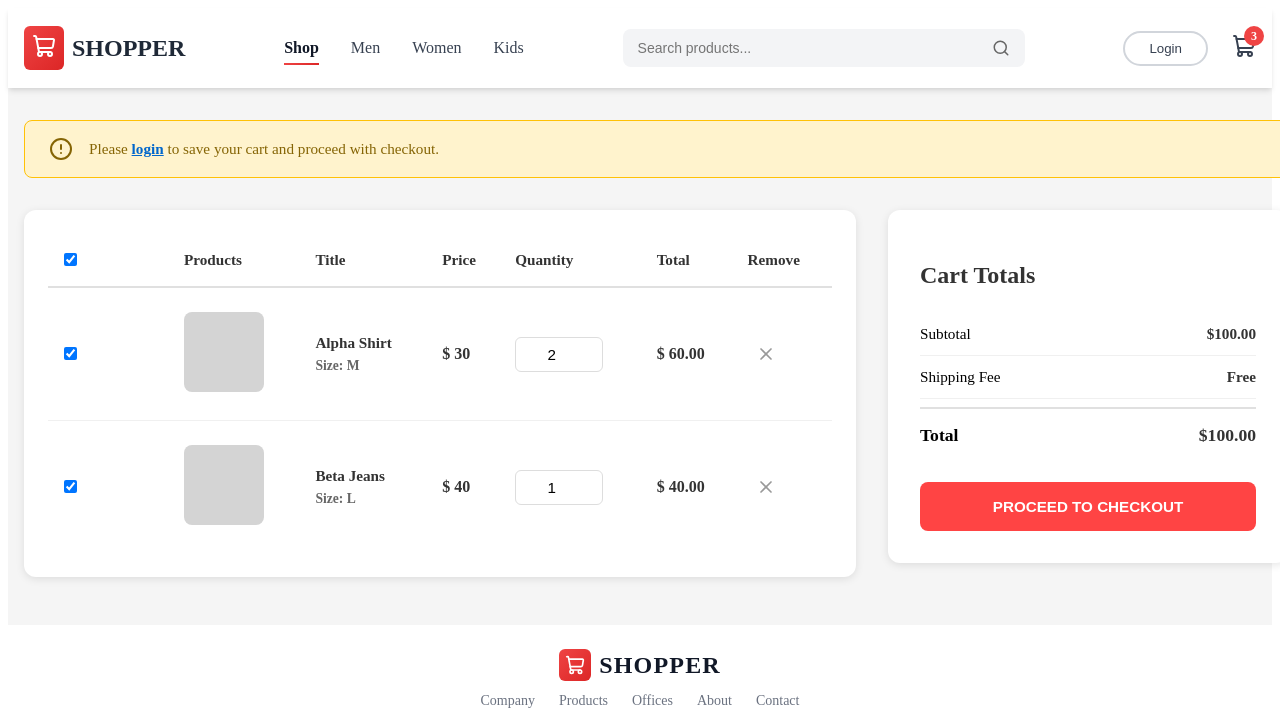
Test case: Cart checkbox selection for checkout › provides a Select All control that toggles every item selection
Click the checkbox named "select all" at (70, 260), box x1=64 y1=253 x2=77 y2=266
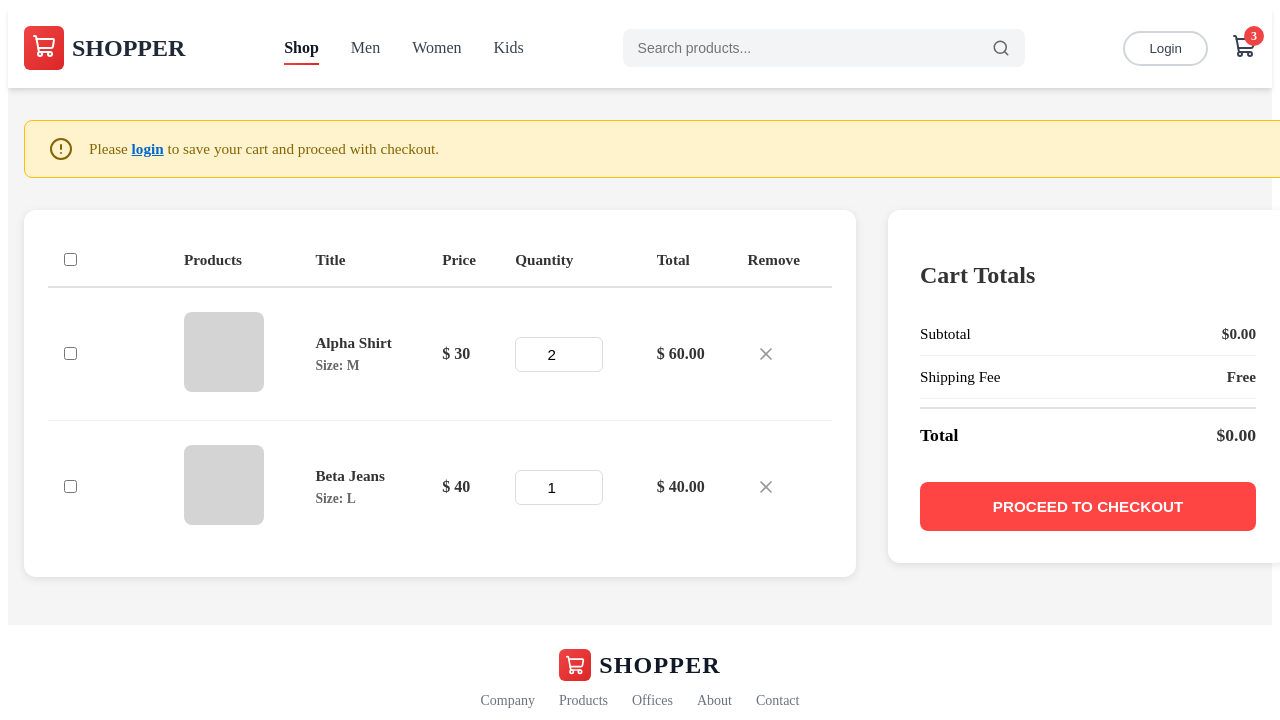
Now the checkbox named "Select Alpha Shirt" is not checked, box x1=64 y1=347 x2=77 y2=360
Now the checkbox named "Select Beta Jeans" is not checked, box x1=64 y1=480 x2=77 y2=493
Click the checkbox named "select all" at (70, 260), box x1=64 y1=253 x2=77 y2=266
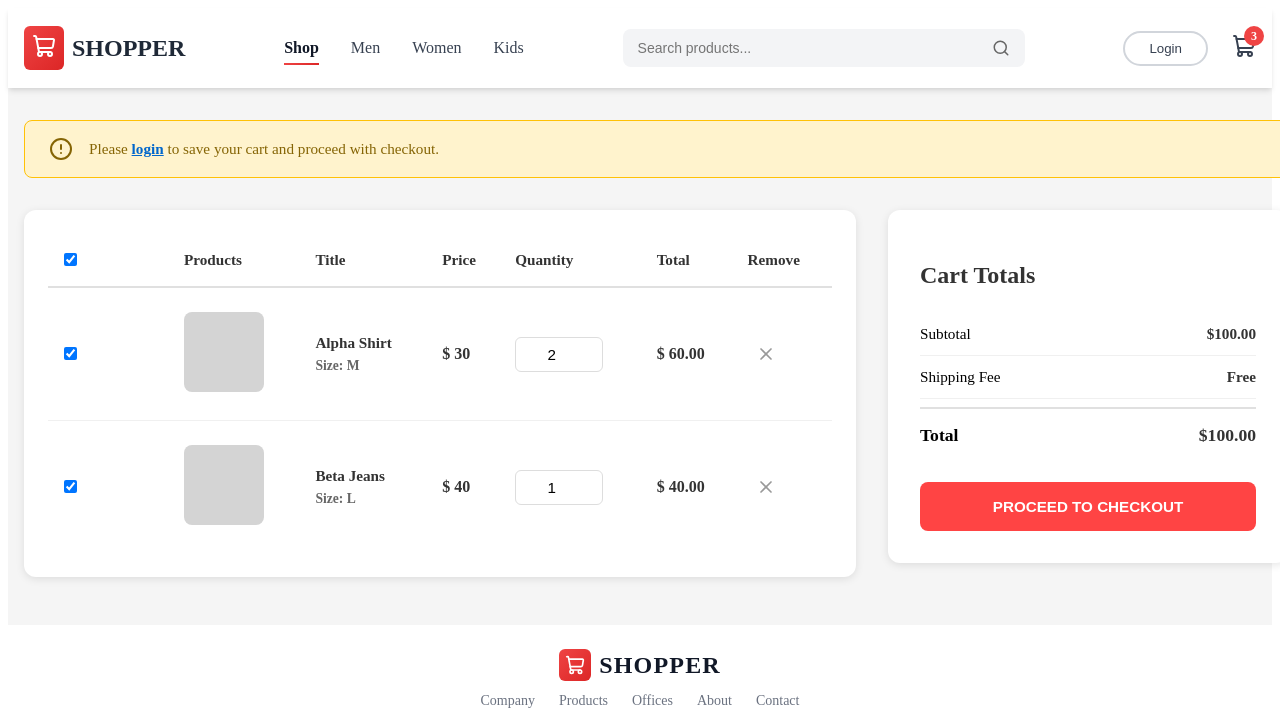
Now the checkbox named "Select Alpha Shirt" is checked, box x1=64 y1=347 x2=77 y2=360
Now the checkbox named "Select Beta Jeans" is checked, box x1=64 y1=480 x2=77 y2=493
